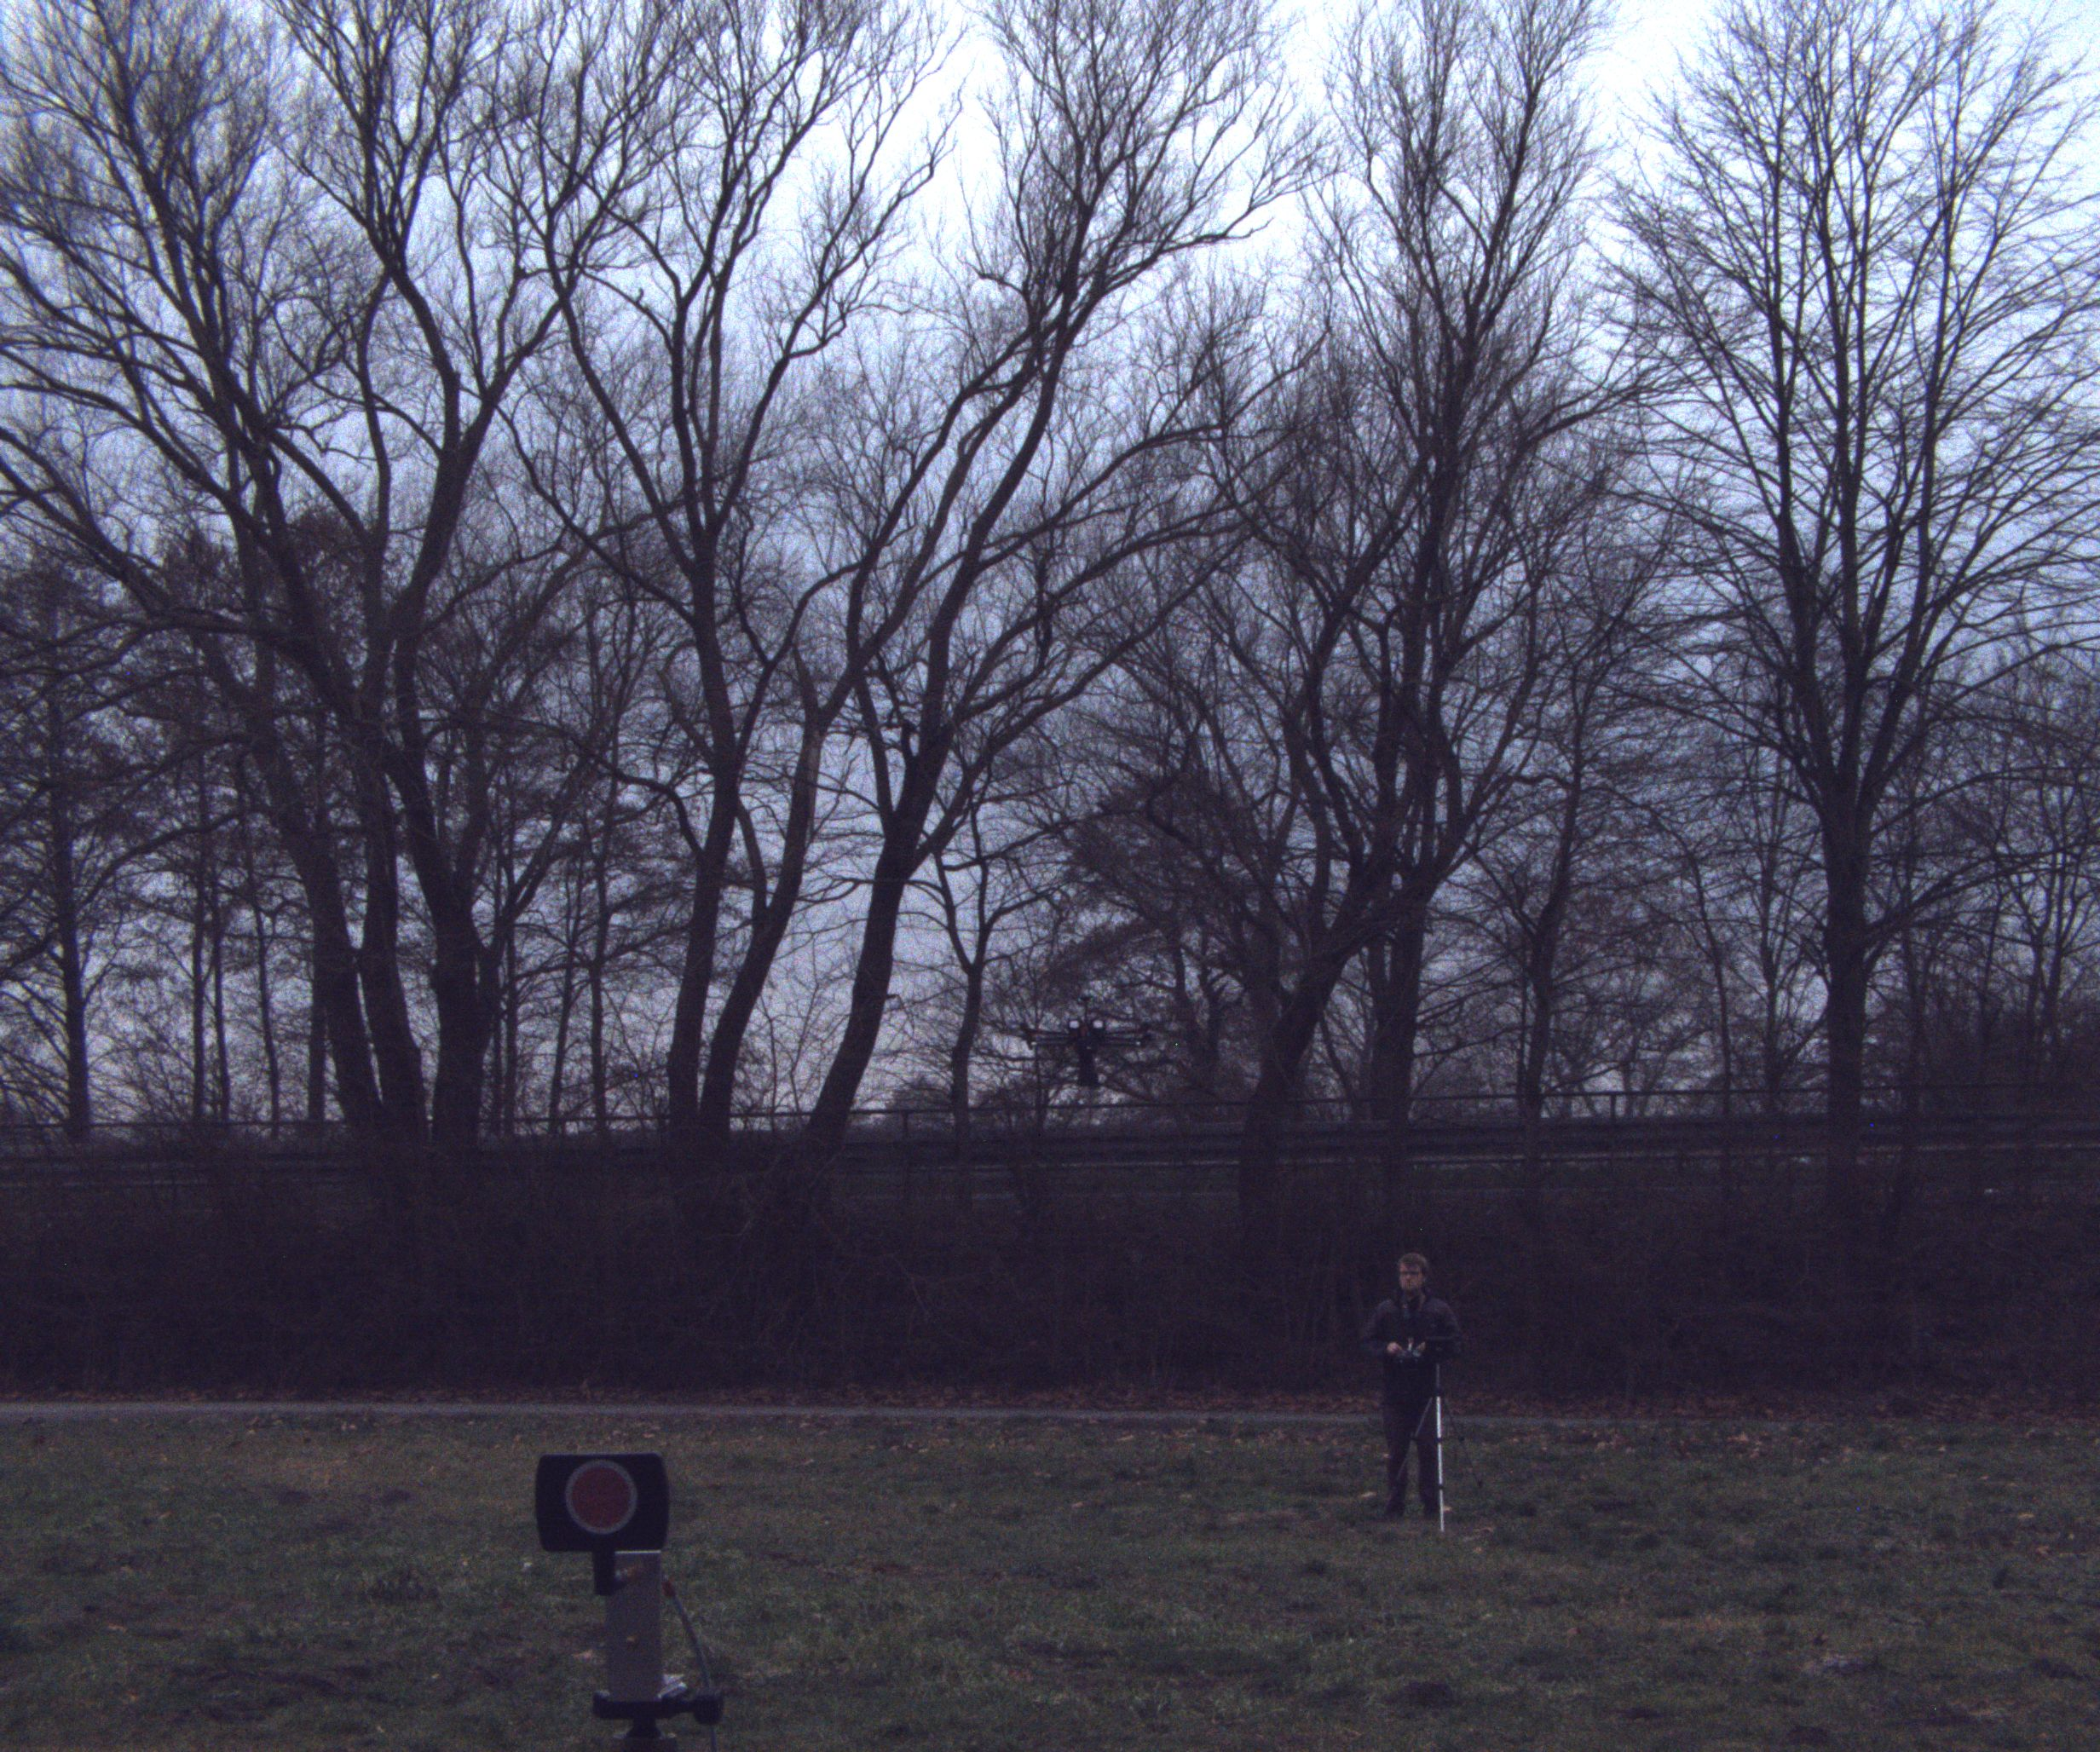Drohne: (1036, 894, 1179, 1119)
